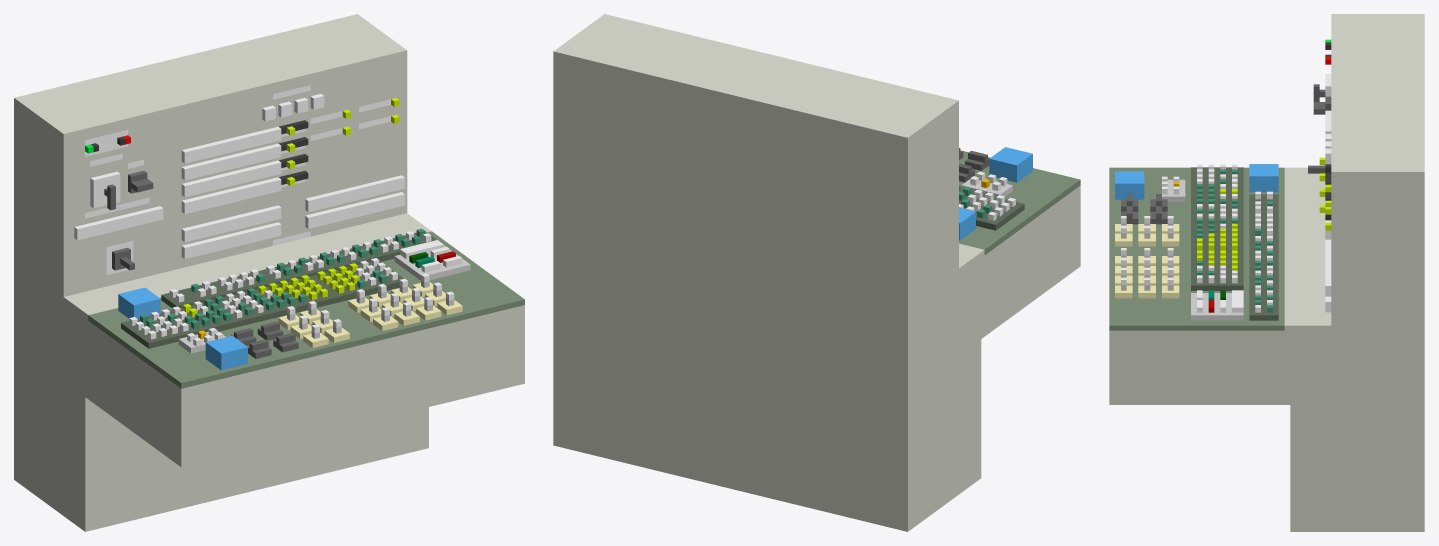
Rendered from Control Panel3-1.fbx.
The picture shows the model from 3 angles, left to right: view 1: azimuth 30°, elevation 25°; view 2: azimuth 150°, elevation 25°; view 3: azimuth 270°, elevation 25°; orthographic projection. The views are drawn at different scales.
Parts seen in each view (by area): view 1: Control Panel3-1.002, Control Panel3-1.001, Control Panel3-1.000, Control Panel3-1.006, Control Panel3-1.004; view 2: Control Panel3-1.002, Control Panel3-1.000, Control Panel3-1.001, Control Panel3-1.006; view 3: Control Panel3-1.001, Control Panel3-1.002, Control Panel3-1.000, Control Panel3-1.004, Control Panel3-1.006.
Boxes of the visible parts, x1,y1,x2,y2 form: Control Panel3-1.002: (14,14,407,329); Control Panel3-1.001: (57,213,524,467); Control Panel3-1.000: (14,304,428,531); Control Panel3-1.006: (205,336,247,370); Control Panel3-1.004: (118,287,160,318); Control Panel3-1.002: (553,14,958,357); Control Panel3-1.000: (553,271,987,531); Control Panel3-1.001: (952,148,1080,338); Control Panel3-1.006: (989,147,1032,182); Control Panel3-1.001: (1109,164,1342,404); Control Panel3-1.002: (1308,14,1424,373); Control Panel3-1.000: (1278,331,1424,531); Control Panel3-1.004: (1249,164,1278,192); Control Panel3-1.006: (1115,171,1144,199).
Size of the model in its own units: 6.4 by 6.8 by 5.4.
